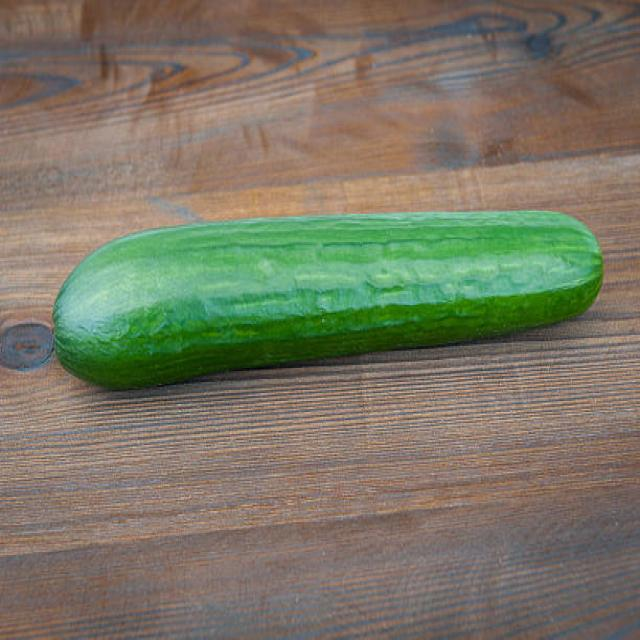cucumber: (53, 206, 602, 383)
